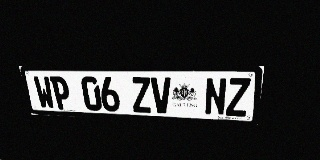0: (80, 76, 103, 111)
6: (98, 77, 121, 112)
N: (204, 78, 227, 116)
P: (49, 76, 72, 110)
V: (151, 77, 172, 114)
W: (32, 76, 56, 109)
Z: (226, 78, 251, 117), (130, 77, 152, 113)
